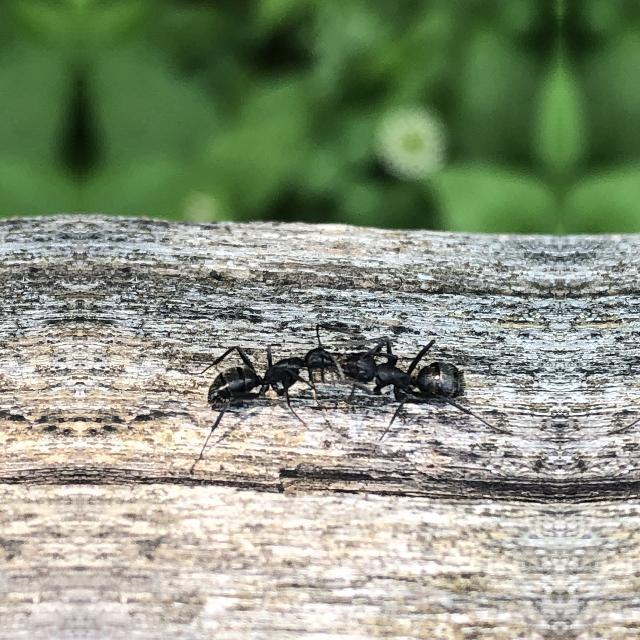Camponotus: (184, 287, 346, 428), (330, 327, 510, 441)
